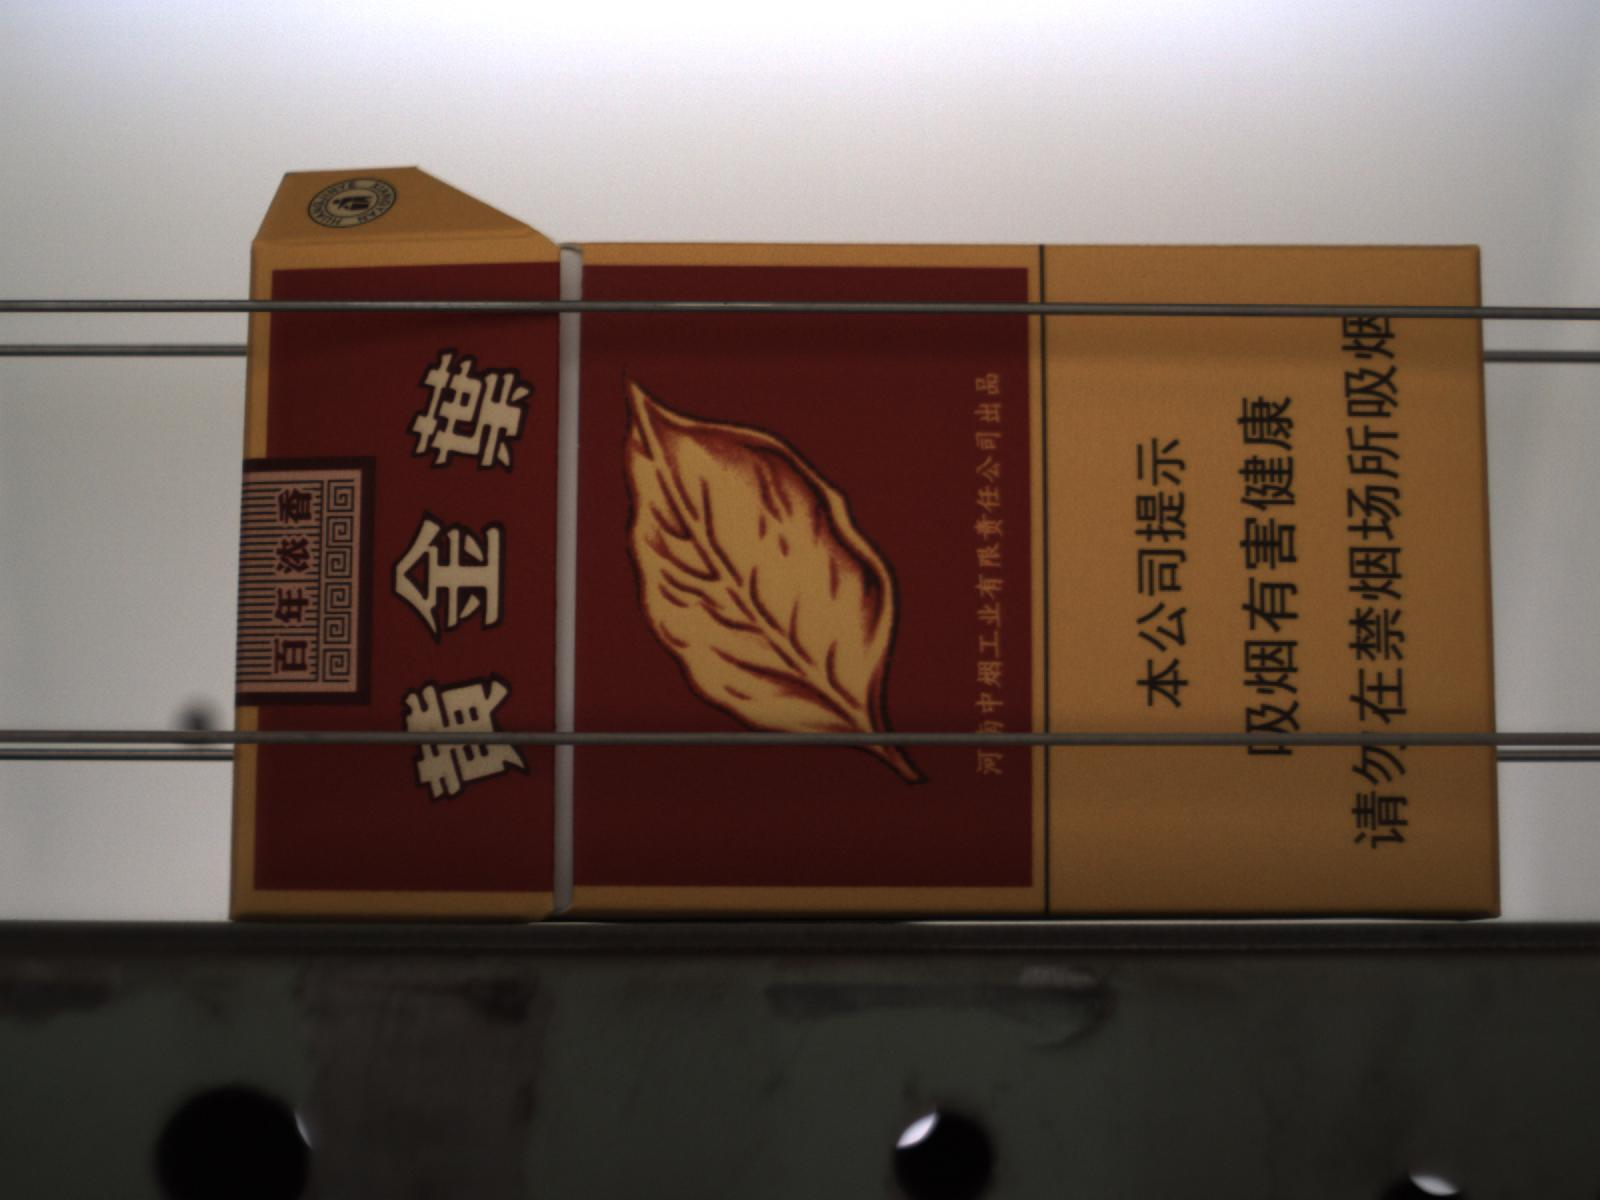headUpwarp_upper_01: (252, 165, 555, 246)
